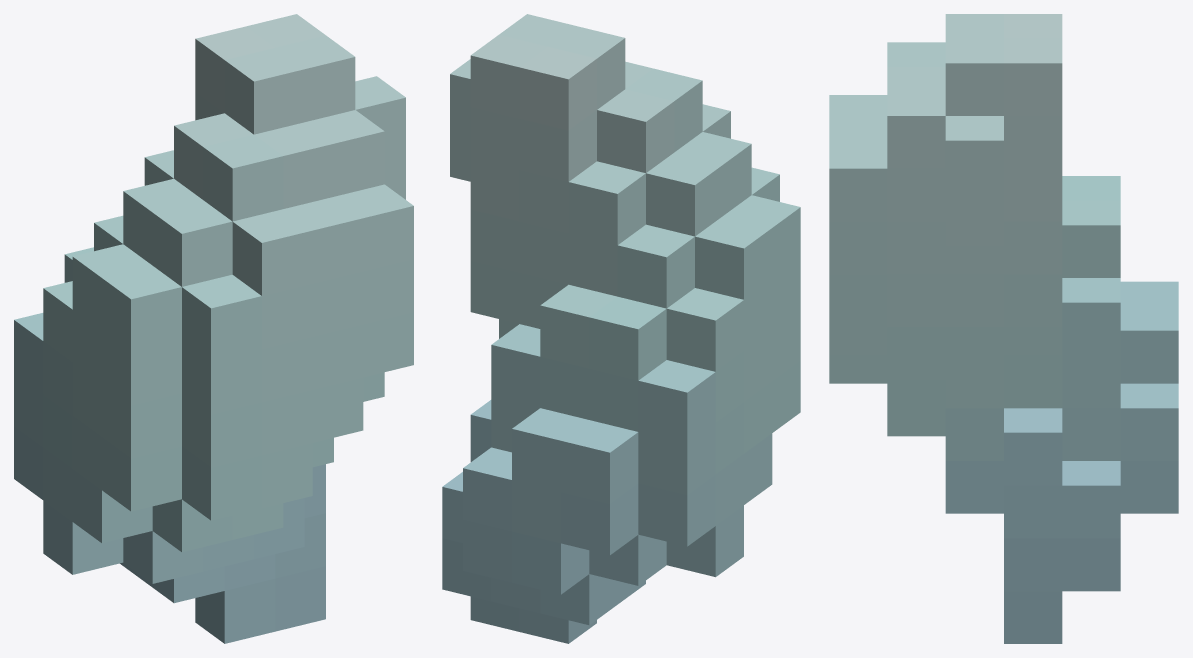
The model's file is mat_soul_fragment_lod1.glb.
3 renders of one model, left to right at view 1: azimuth 30°, elevation 25°; view 2: azimuth 150°, elevation 25°; view 3: azimuth 270°, elevation 25°, orthographic. The views are drawn at different scales.
Parts seen in each view (by area): view 1: mat_soul_fragment_lod1; view 2: mat_soul_fragment_lod1; view 3: mat_soul_fragment_lod1.
Boxes of the visible parts, x1=… form: mat_soul_fragment_lod1: x1=14, y1=14, x2=413, y2=643; mat_soul_fragment_lod1: x1=442, y1=14, x2=800, y2=643; mat_soul_fragment_lod1: x1=829, y1=14, x2=1178, y2=643.
Size of the model in its own units: 0.144 by 0.264 by 0.144.
